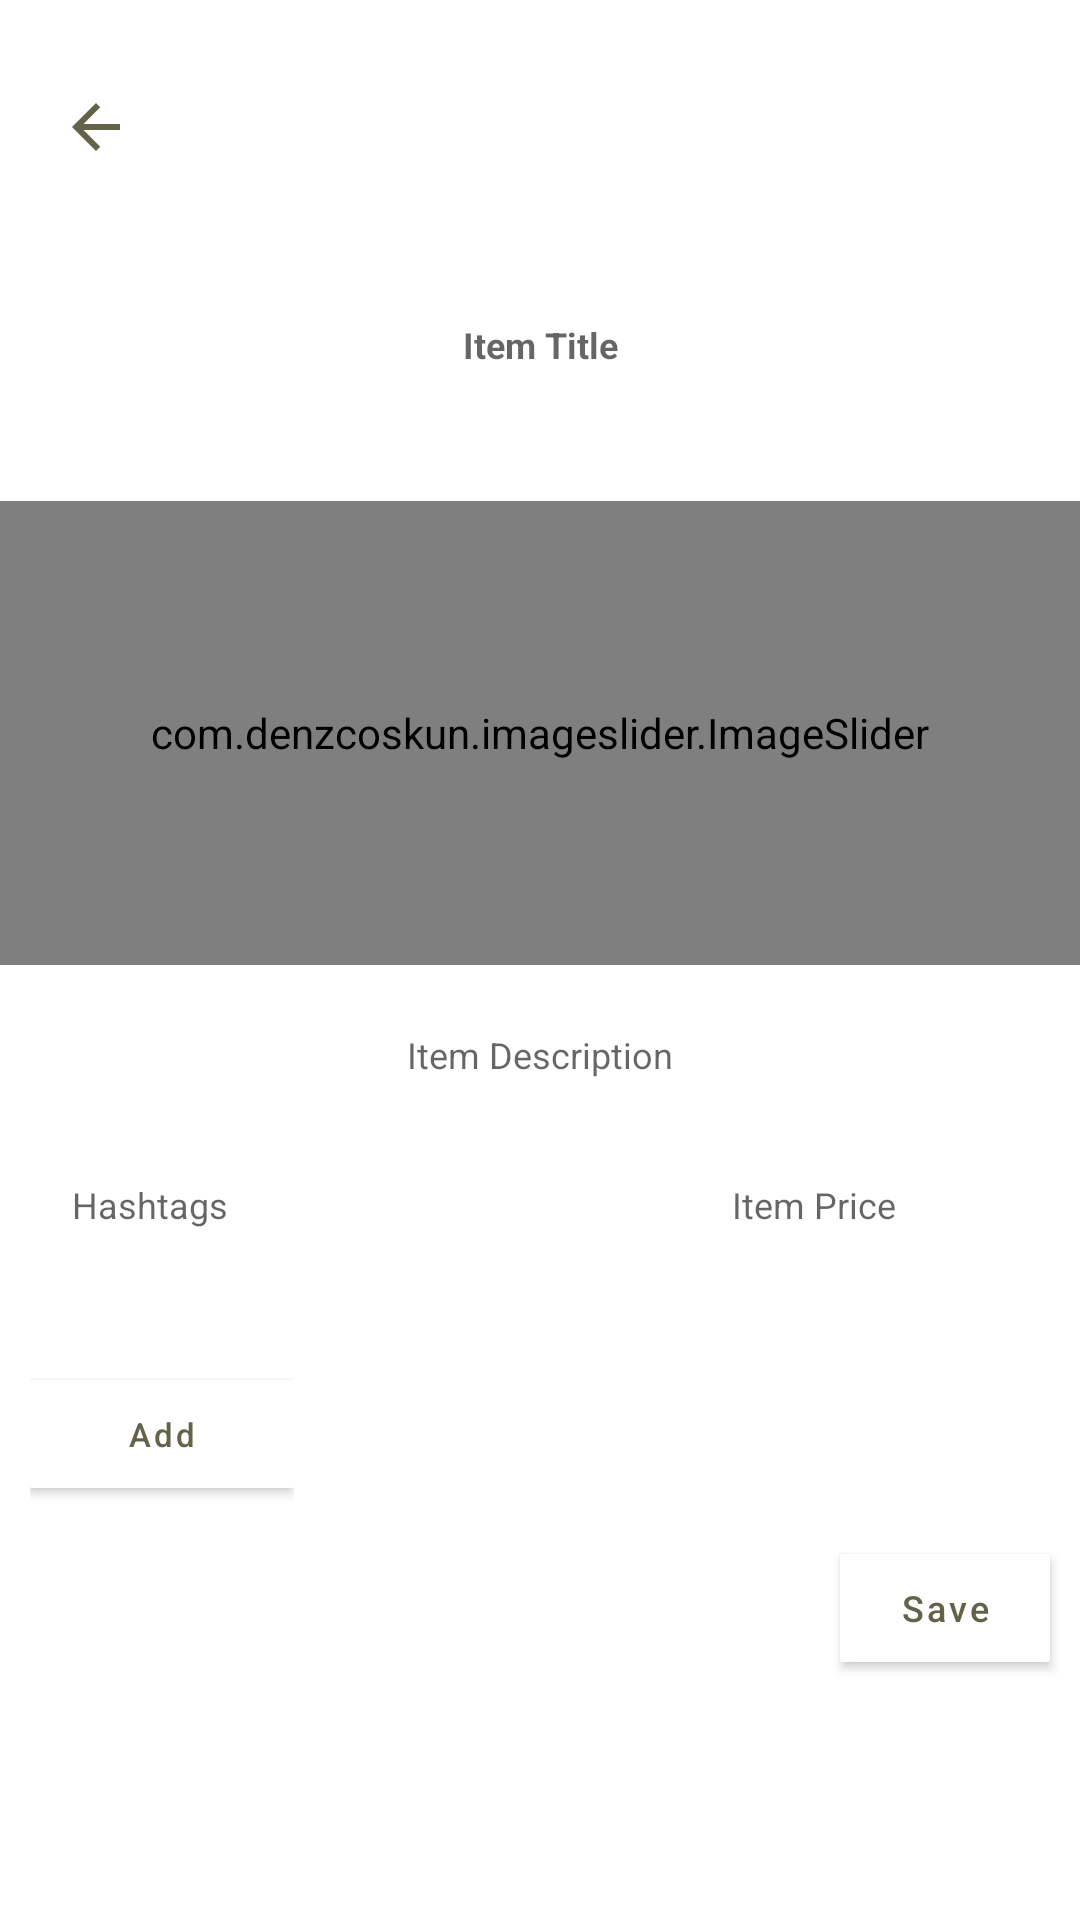

Screen size 1080 × 1920. Icon name, then its center in pixels as [x,y]:
Back Arrow: [96,127]
